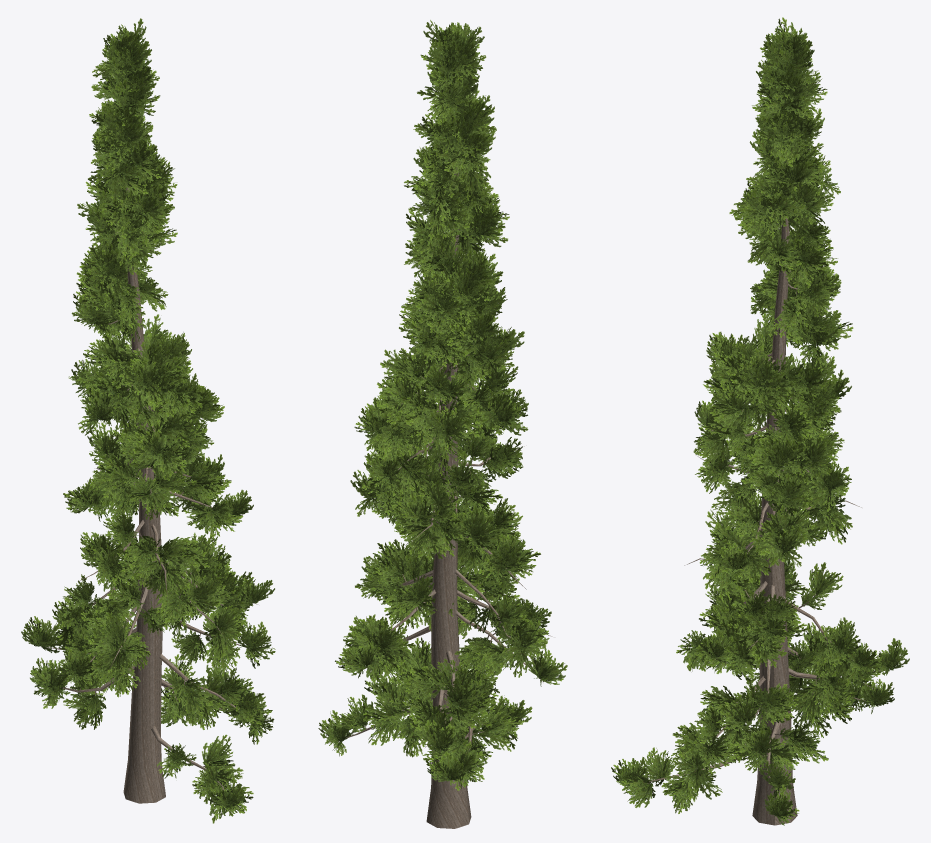
Rendered from RedCedar_2.obj.
3 views of the same model, side by side, from view 1: azimuth 30°, elevation 25°; view 2: azimuth 150°, elevation 25°; view 3: azimuth 270°, elevation 25° (orthographic). The views are drawn at different scales.
Parts seen in each view (by area): view 1: RedCedar_2; view 2: RedCedar_2; view 3: RedCedar_2.
Part boxes in pixels (x1,y1,x2,y2): RedCedar_2: (21, 18, 275, 823); RedCedar_2: (318, 20, 567, 828); RedCedar_2: (611, 17, 909, 825).
Bounding box in the file's own units: 33.31 × 106 × 38.27.
Materials: 2 (2 with a texture image).
